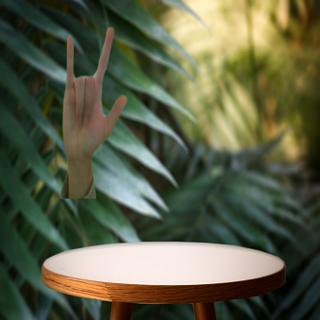ILY: (60, 25, 129, 163)
